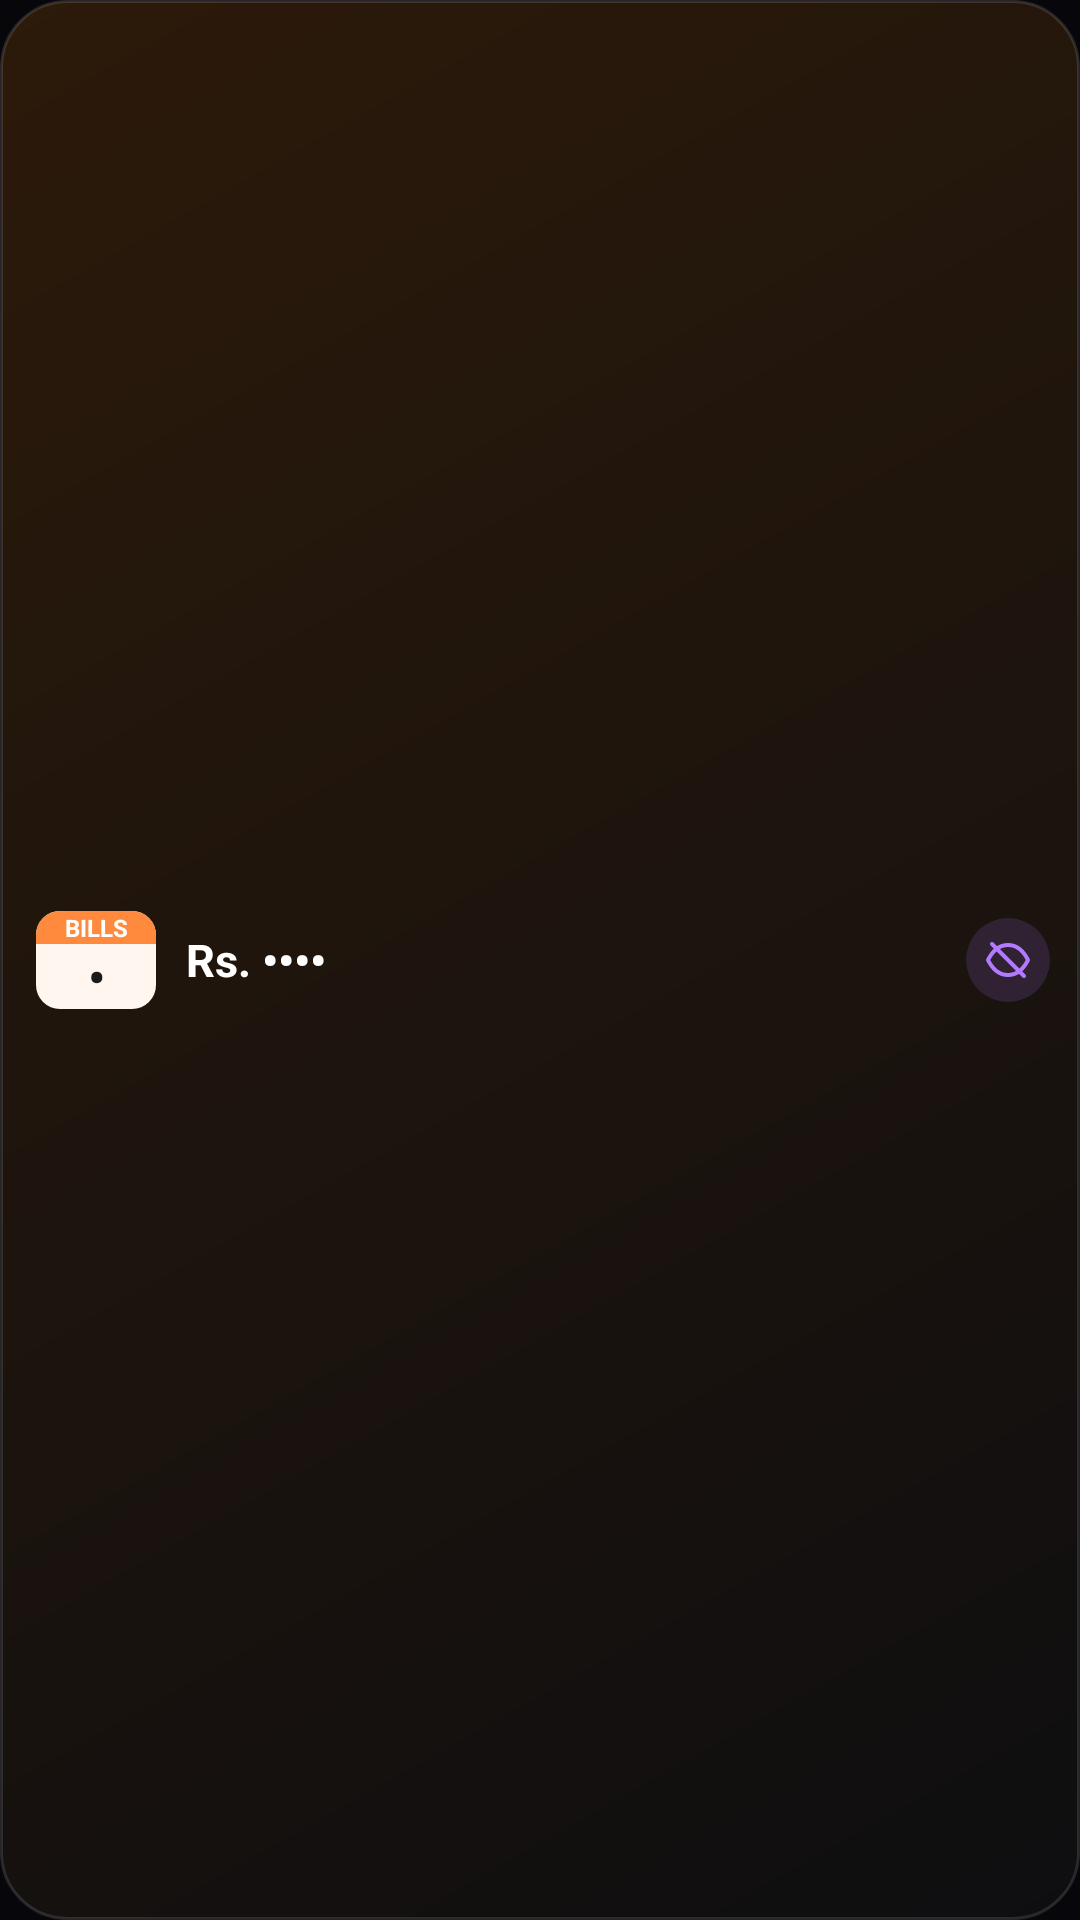

Point at icon controls on the screen. Image size 1080*1920, points as (x=x, y=y).
Show amounts: (x=1008, y=960)
